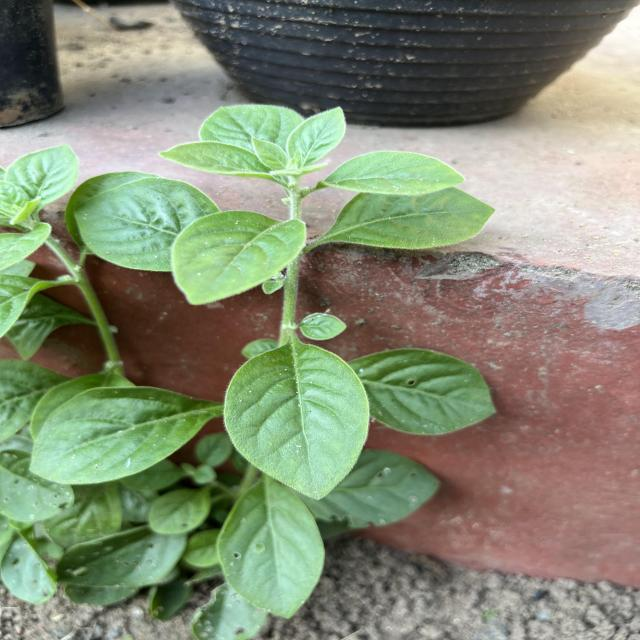Aerva lanata: (221, 341, 374, 502), (29, 383, 215, 487), (170, 208, 308, 308), (319, 148, 466, 198)
